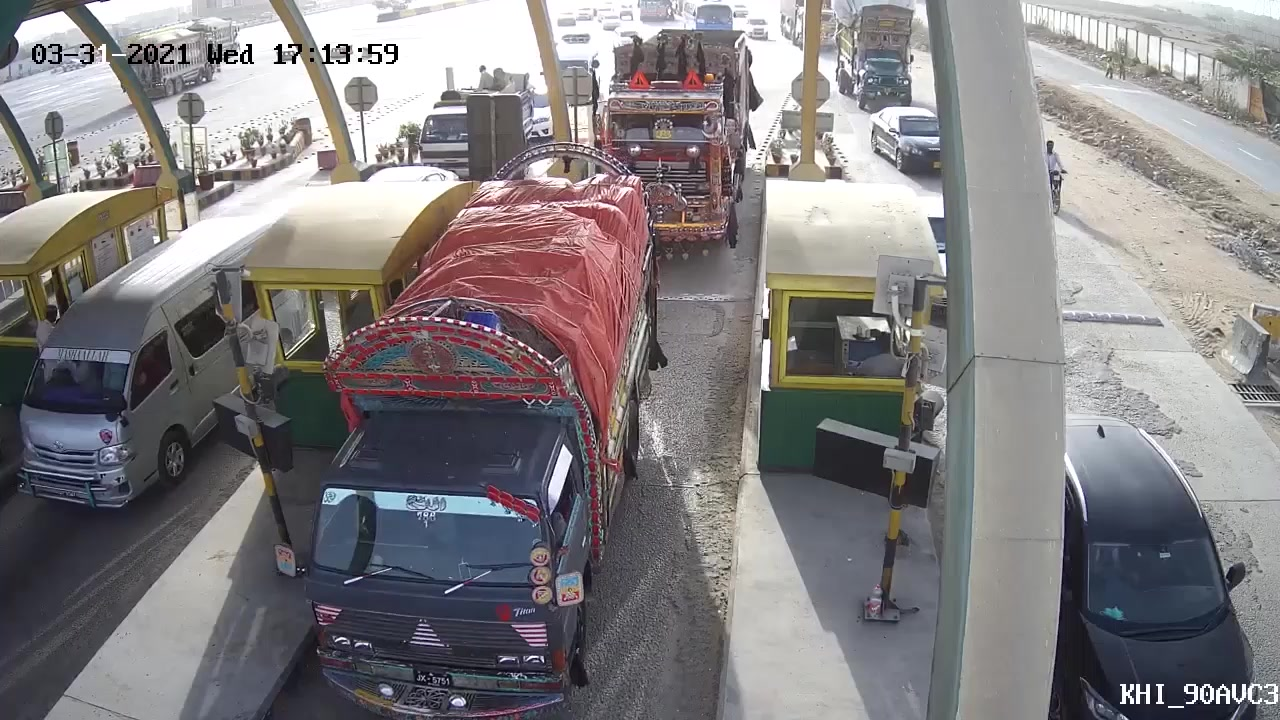F3: (313, 149, 669, 713)
F5: (602, 22, 758, 255)
